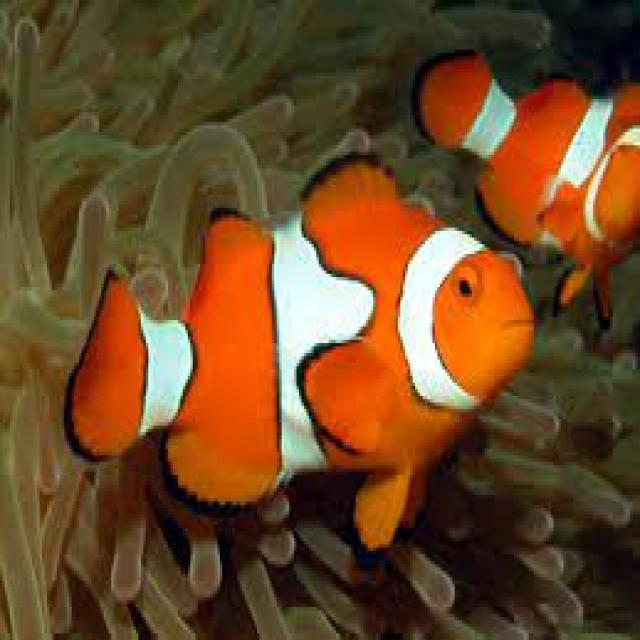Amphiprion-percula: (48, 168, 558, 580), (399, 56, 640, 310)
